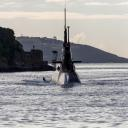submarine: (43, 47, 83, 85)
